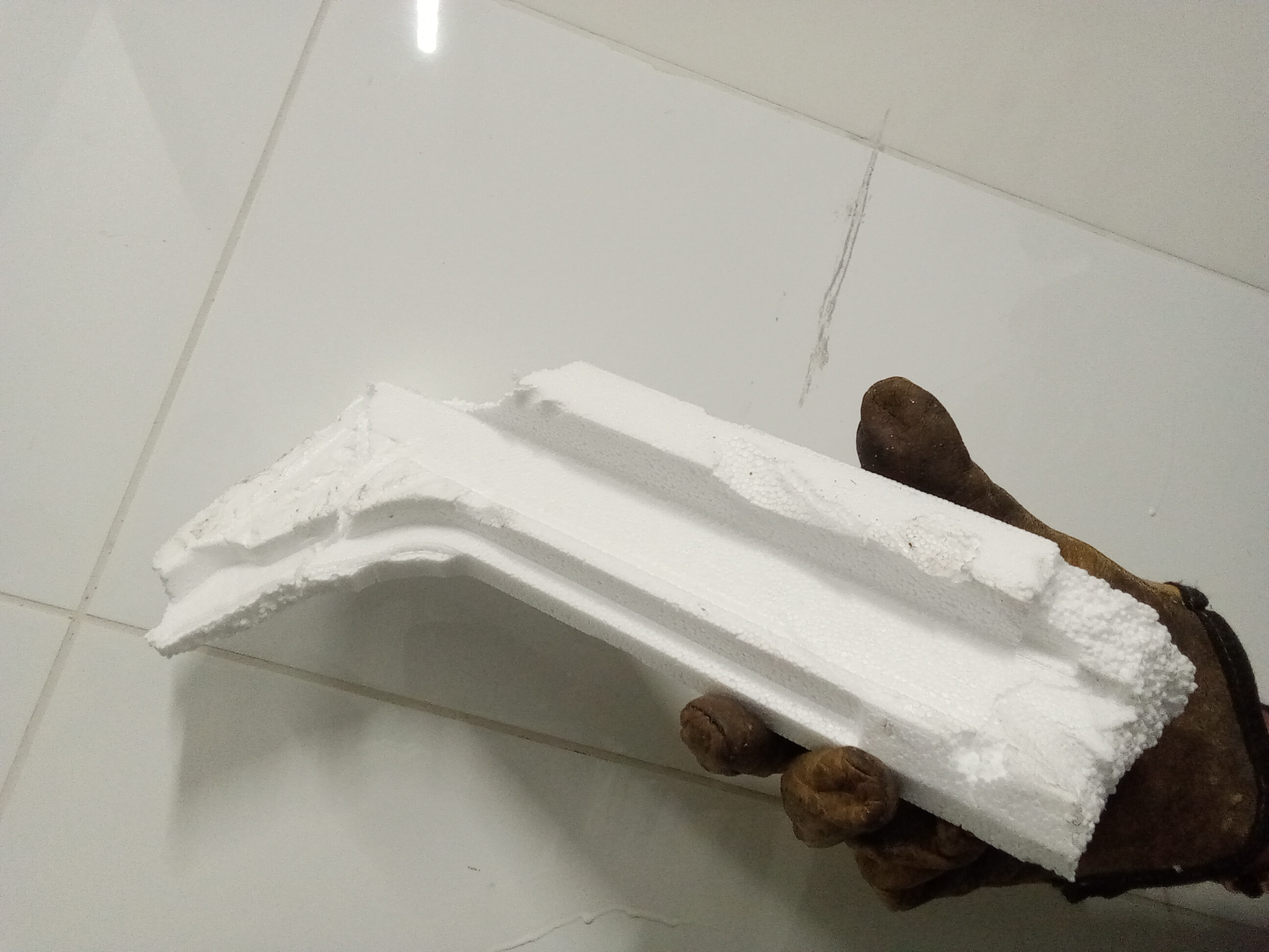Ordinario: (150, 362, 1205, 886)
